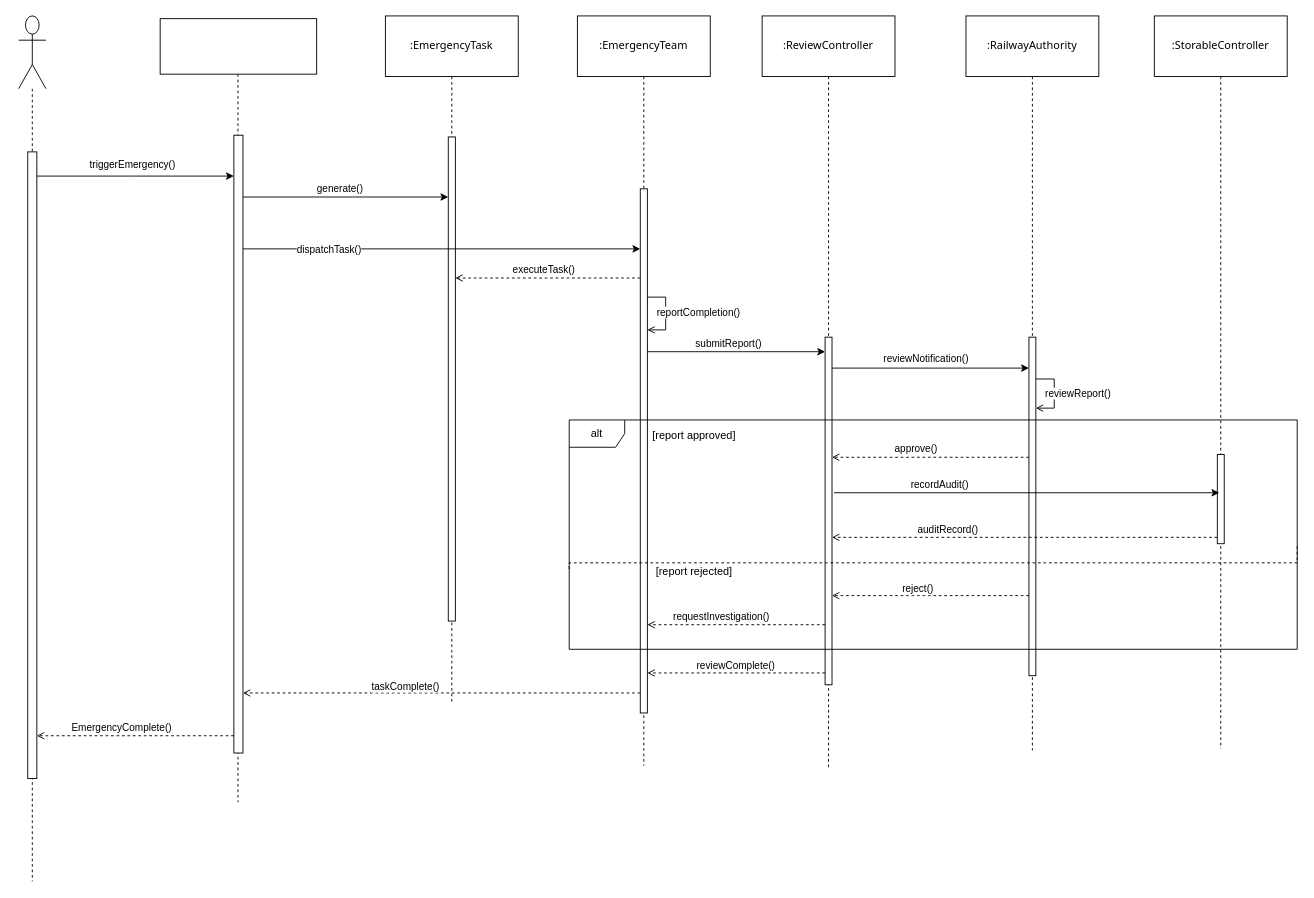
The diagram is 1314 pixels wide and 898 high, and some of its shapes have lost their labels. Here are the shapes that lost their labels. From the top down, the centre of each, then its label:
At (32,52): "抢险队".
At (238,46): "：EmergencyController".
